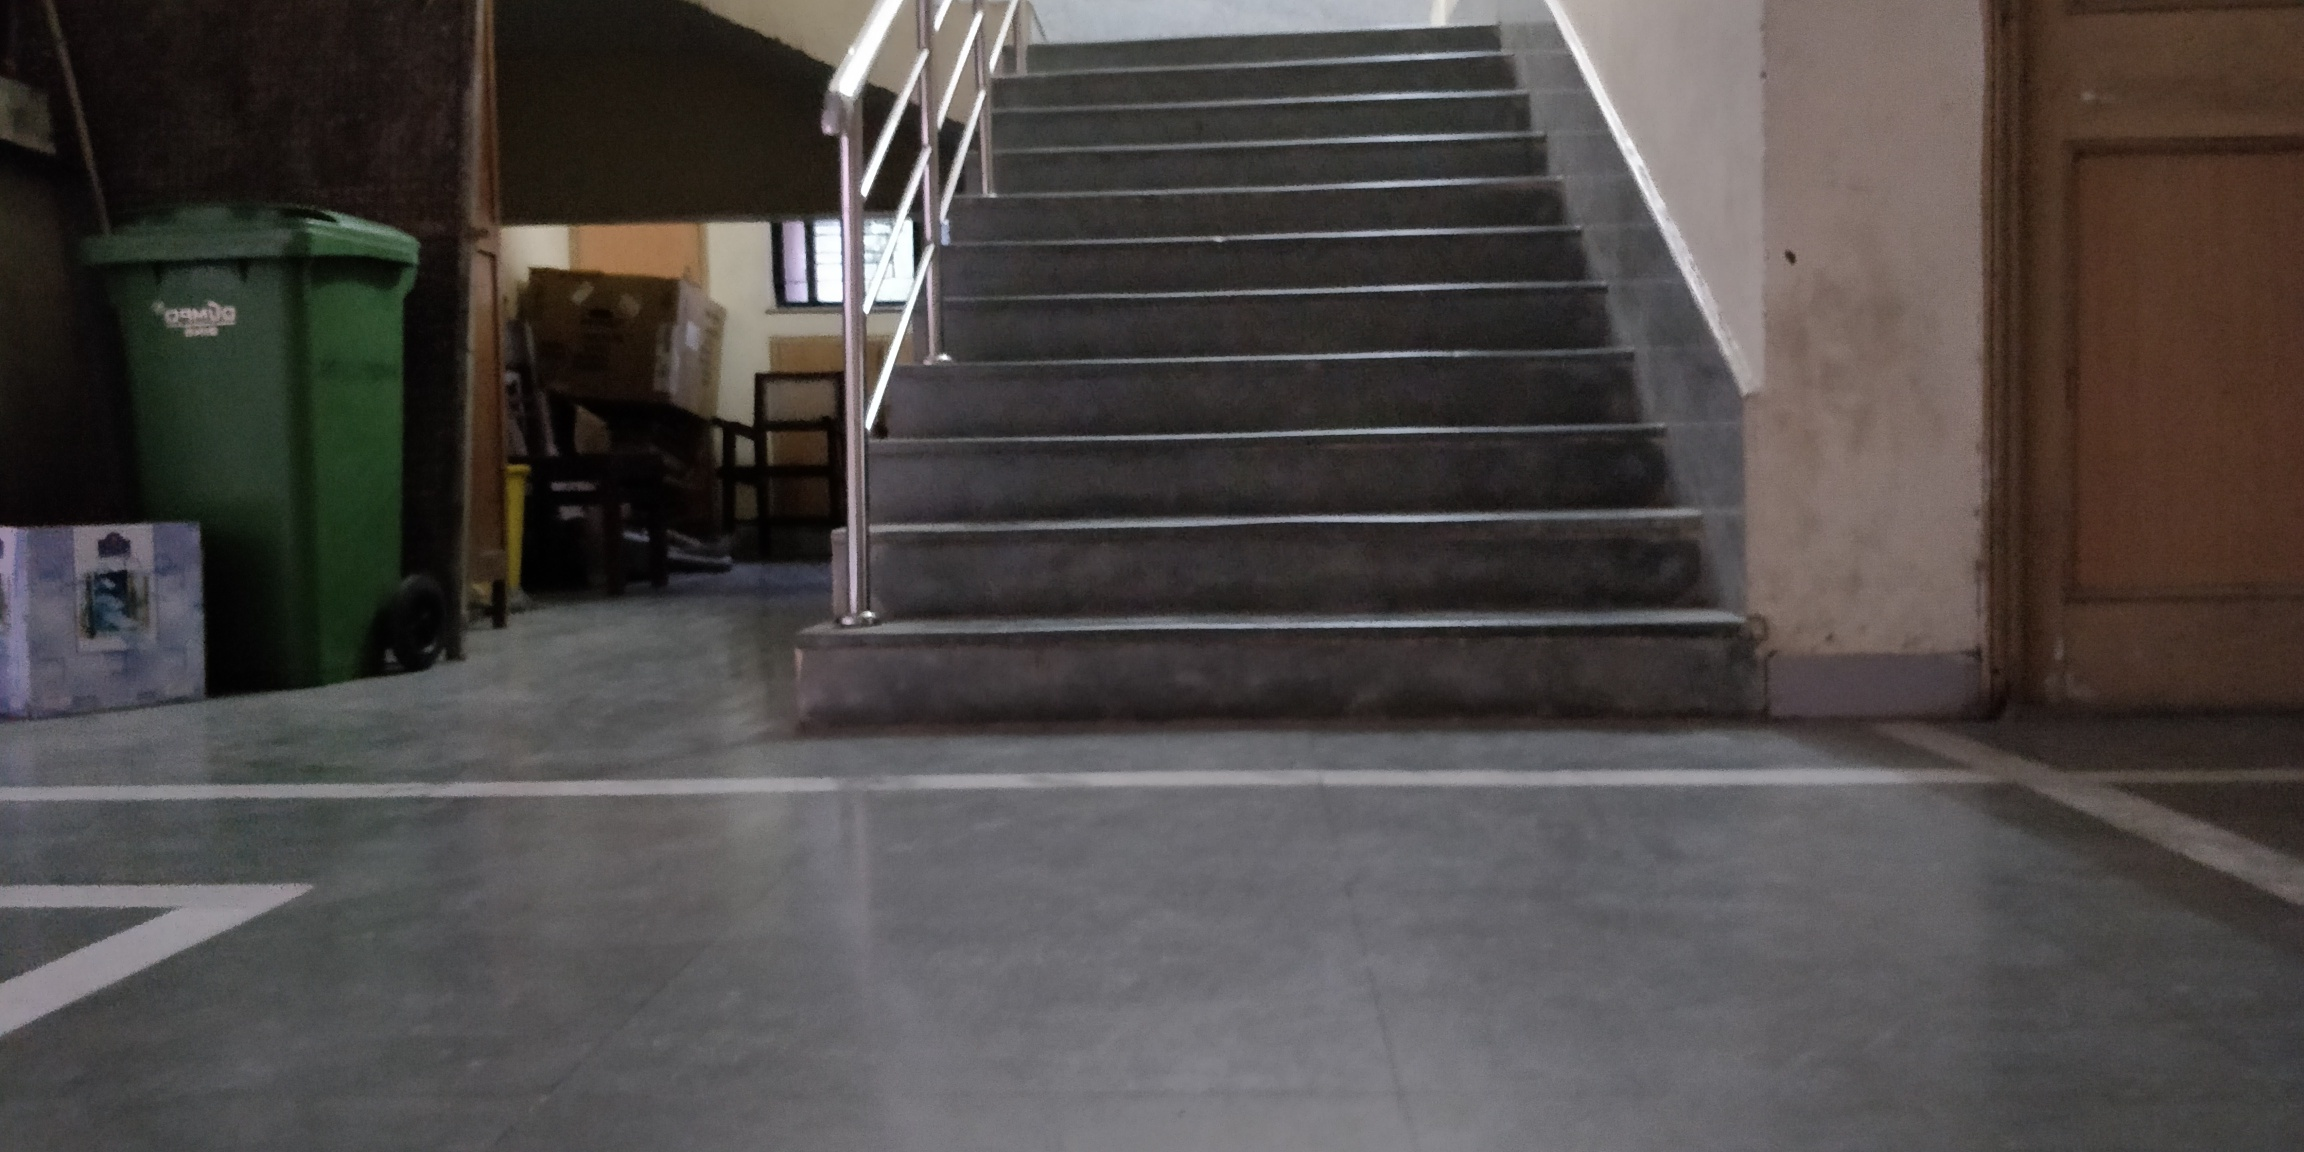stairs_up: (918, 35, 1727, 726)
